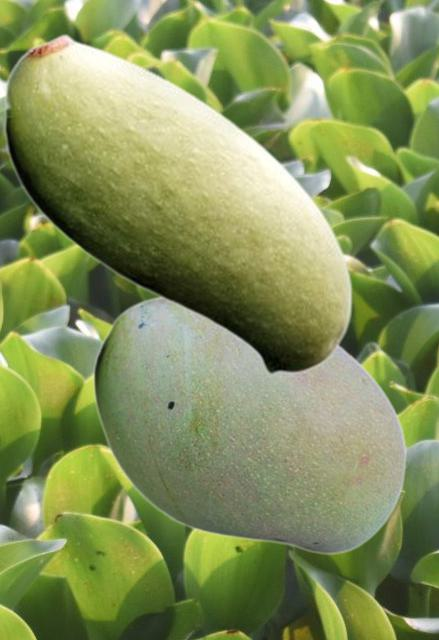green_mango: (3, 32, 352, 375), (92, 295, 406, 554)
